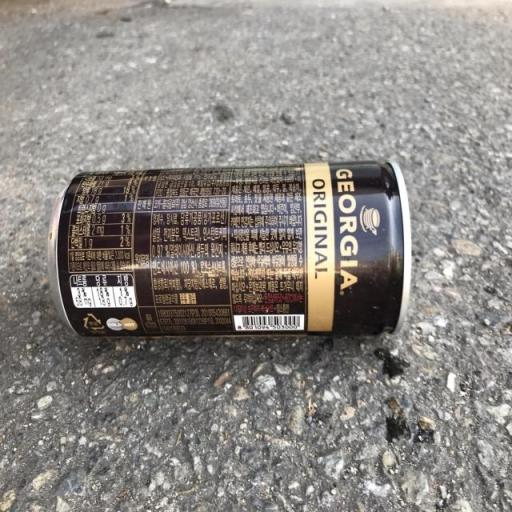metal: (36, 123, 429, 391)
